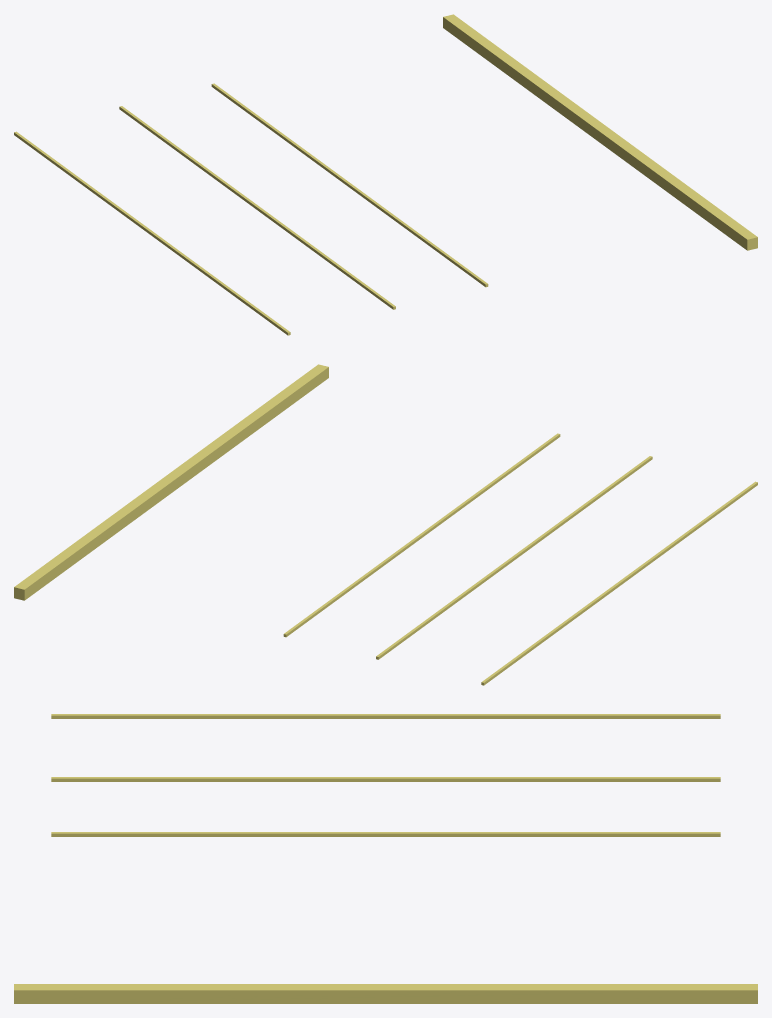
Rendered from SM_Theater_Main_Rigging.fbx.
3 views of the same model, one above another, from view 1: azimuth 30°, elevation 25°; view 2: azimuth 150°, elevation 25°; view 3: azimuth 270°, elevation 25° (orthographic). The views are drawn at different scales.
Visible parts, largest first — view 1: SM_Theater_Main_Rigging; view 2: SM_Theater_Main_Rigging; view 3: SM_Theater_Main_Rigging.
Boxes of the visible parts, x1=… form: SM_Theater_Main_Rigging: x1=14, y1=14, x2=757, y2=335; SM_Theater_Main_Rigging: x1=14, y1=364, x2=757, y2=685; SM_Theater_Main_Rigging: x1=14, y1=714, x2=757, y2=1003.
Size of the model in its own units: 1725 by 55 by 2000.
